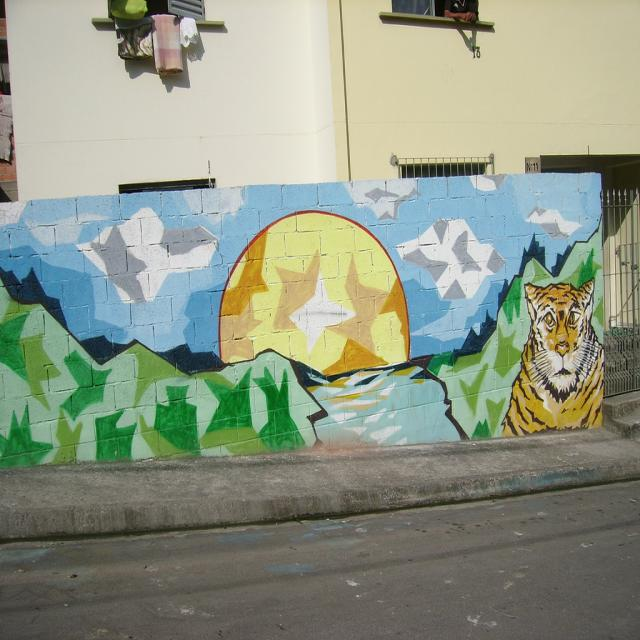Tiger: (502, 281, 599, 433)
